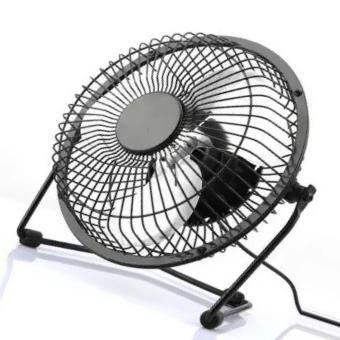fan: (0, 30, 335, 338)
